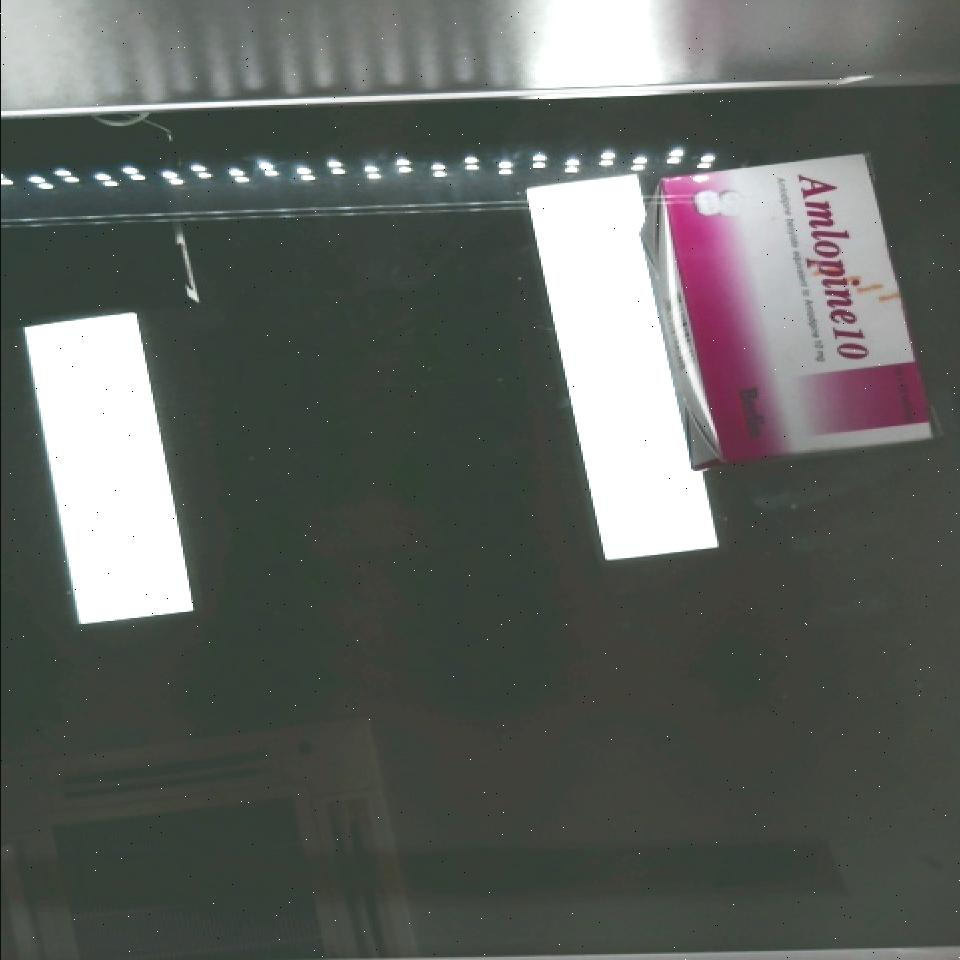medicine_box: (652, 121, 939, 492)
medicine_label_obb: (774, 148, 890, 378)
